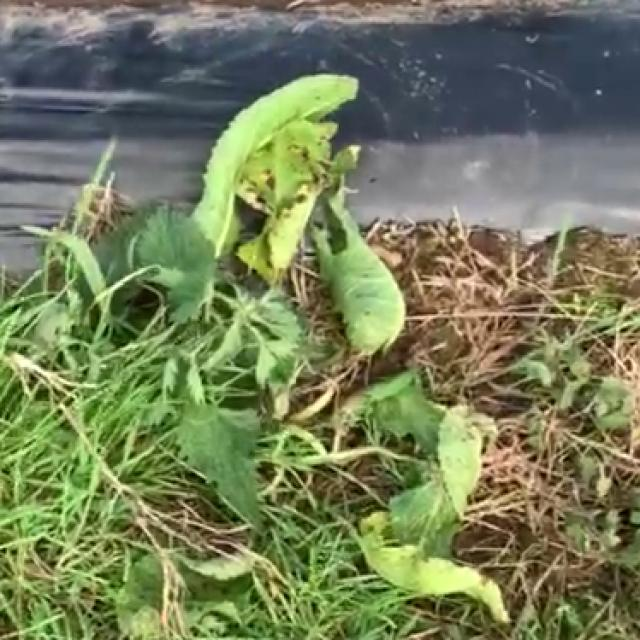organic waste: (169, 67, 445, 372)
